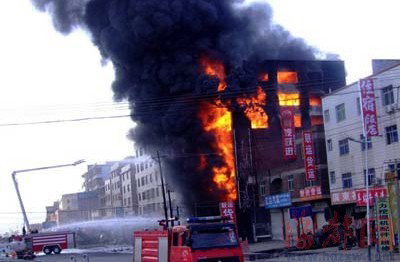fire: (195, 75, 231, 196)
yanwu: (48, 5, 186, 175), (187, 1, 327, 80)
